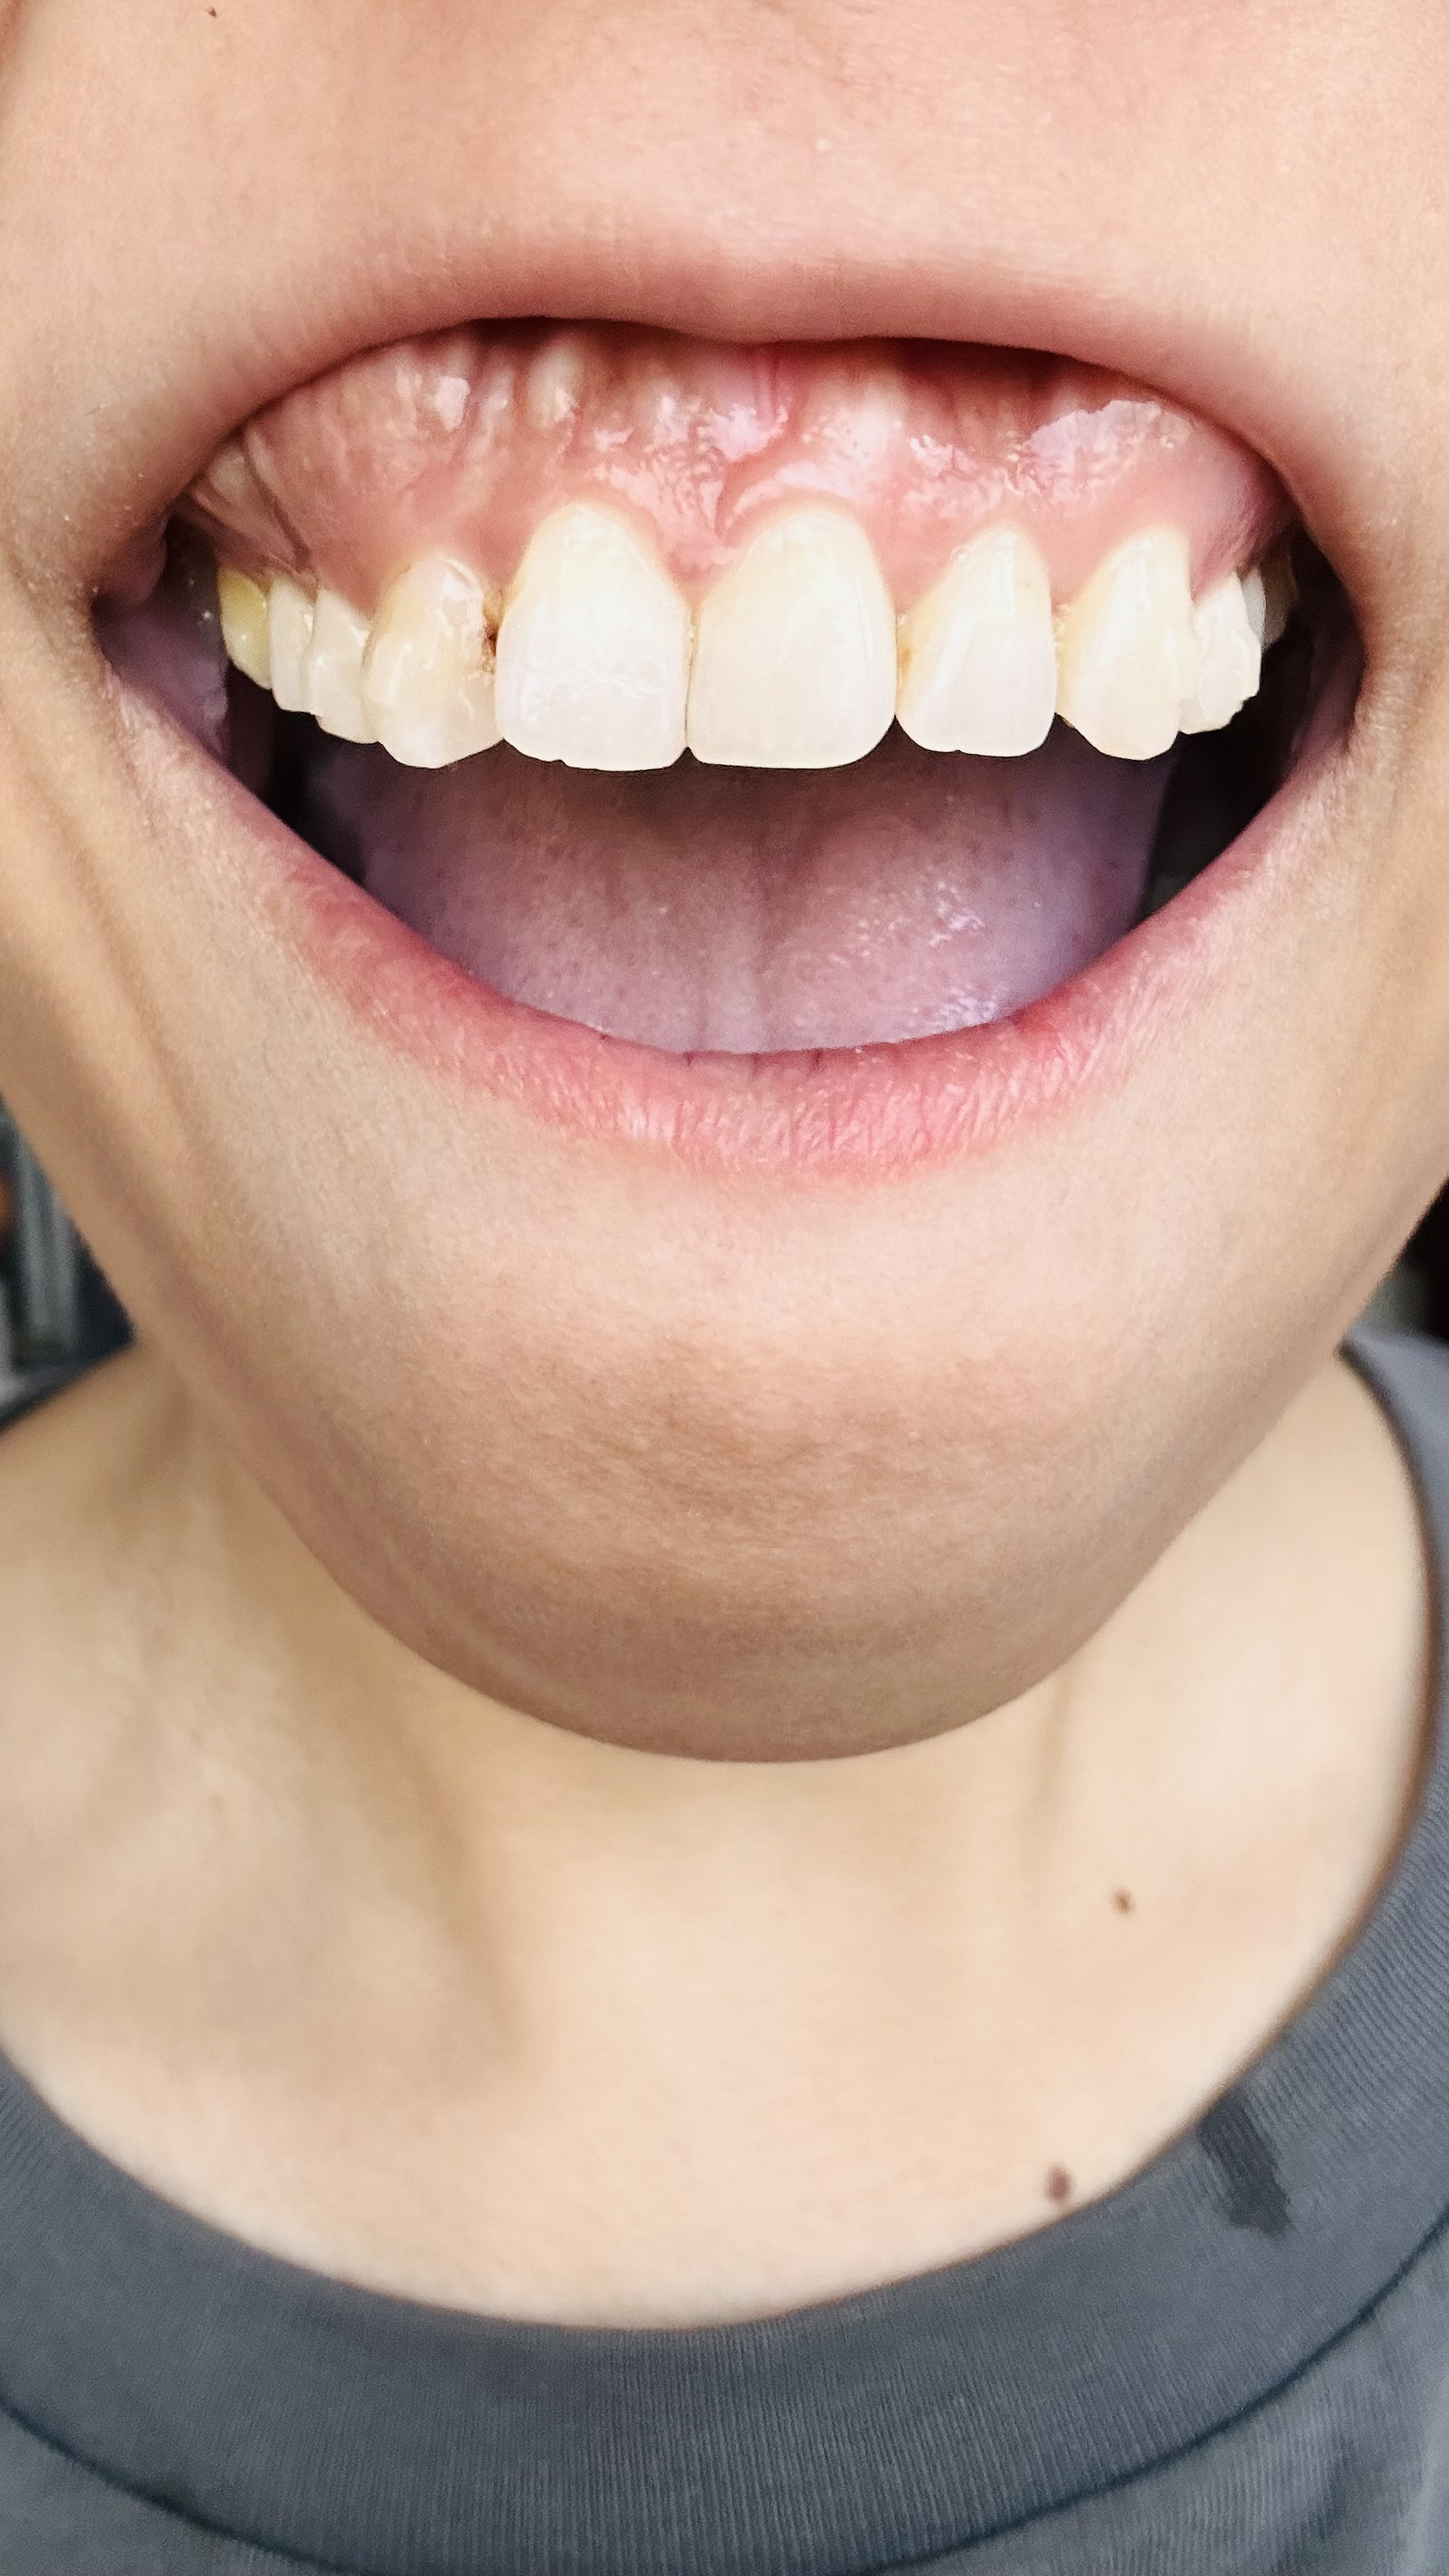teeth: (688, 502, 895, 764), (495, 502, 688, 766), (904, 525, 1054, 752), (1063, 524, 1196, 755), (361, 557, 492, 768), (1187, 573, 1260, 734), (311, 589, 370, 747), (214, 571, 271, 695), (267, 575, 313, 711), (1258, 547, 1304, 637)
